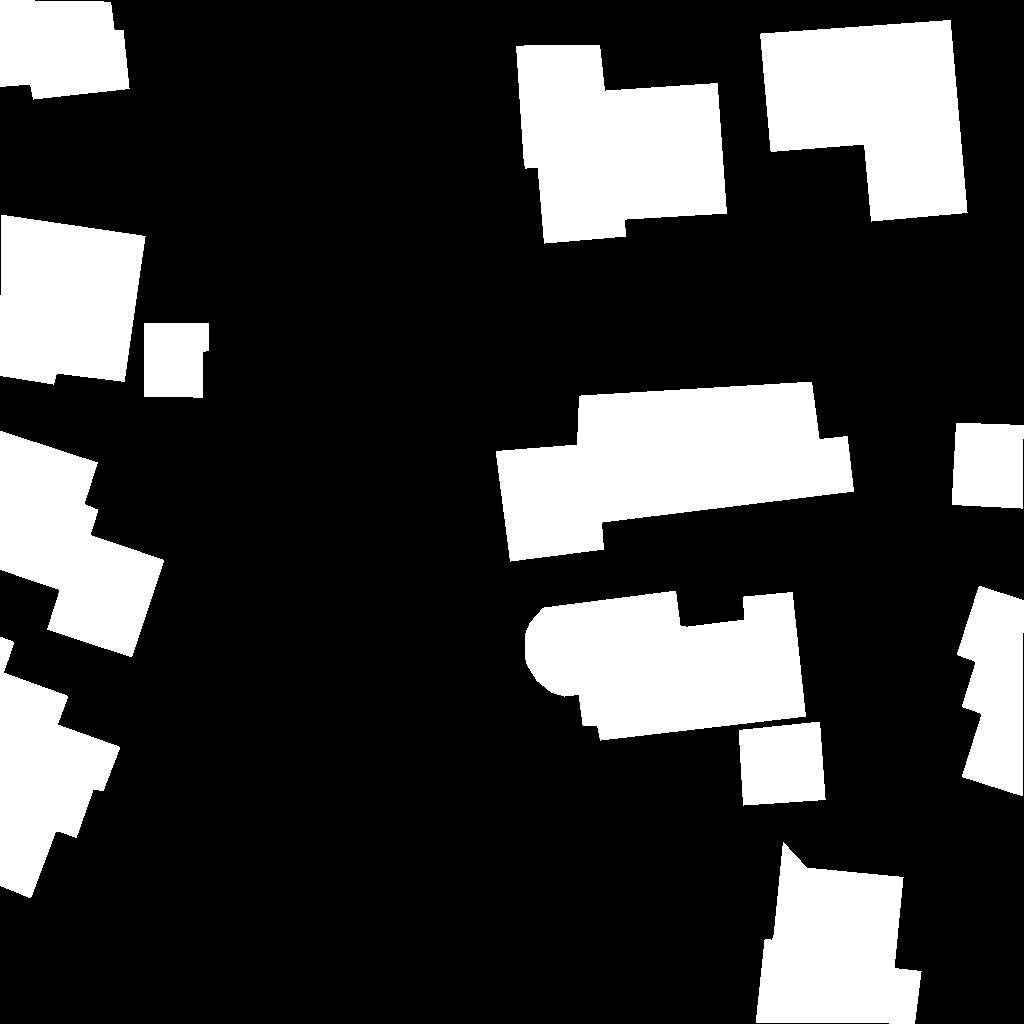building: (496, 382, 855, 562), (524, 591, 807, 741), (516, 45, 728, 244), (760, 20, 968, 222), (0, 431, 165, 658), (0, 637, 121, 899), (756, 842, 922, 1024), (0, 215, 146, 385), (957, 586, 1024, 797), (0, 0, 130, 100), (739, 722, 826, 806), (952, 423, 1024, 509), (144, 323, 209, 398)
